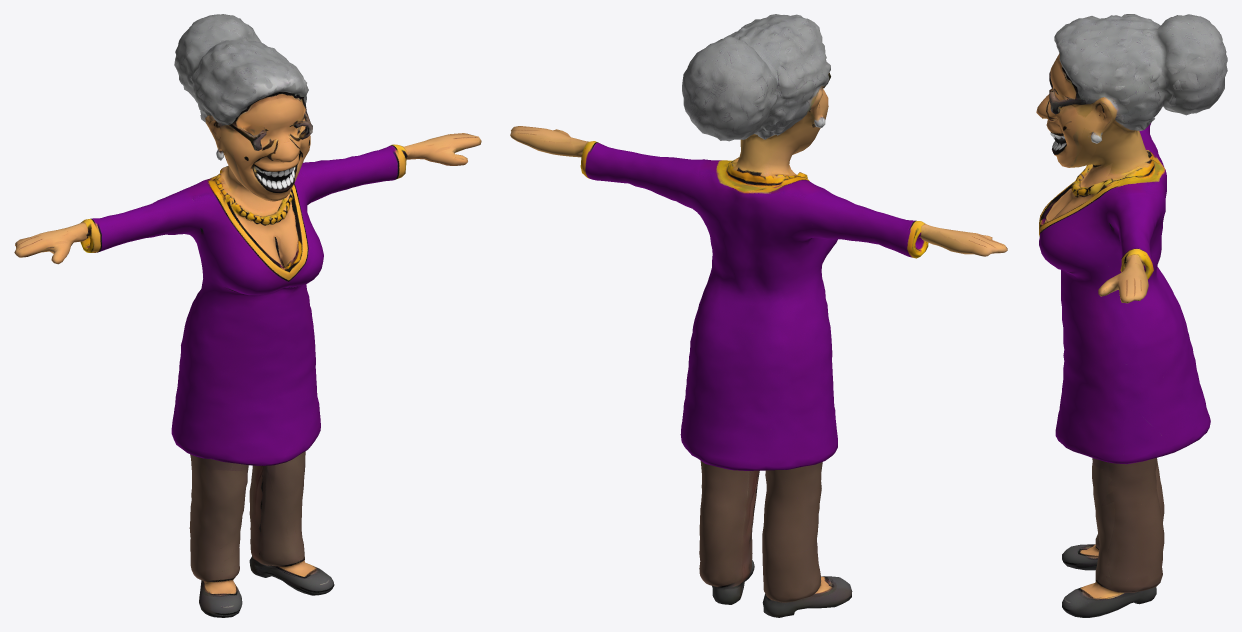
Rendered from baba_3d.glb.
The picture shows the model from 3 angles, left to right: view 1: azimuth 30°, elevation 25°; view 2: azimuth 150°, elevation 25°; view 3: azimuth 270°, elevation 25°; orthographic projection. The views are drawn at different scales.
Size of the model in its own units: 1.69 by 1.9 by 0.5793.
Materials: 1 (1 with a texture image).
